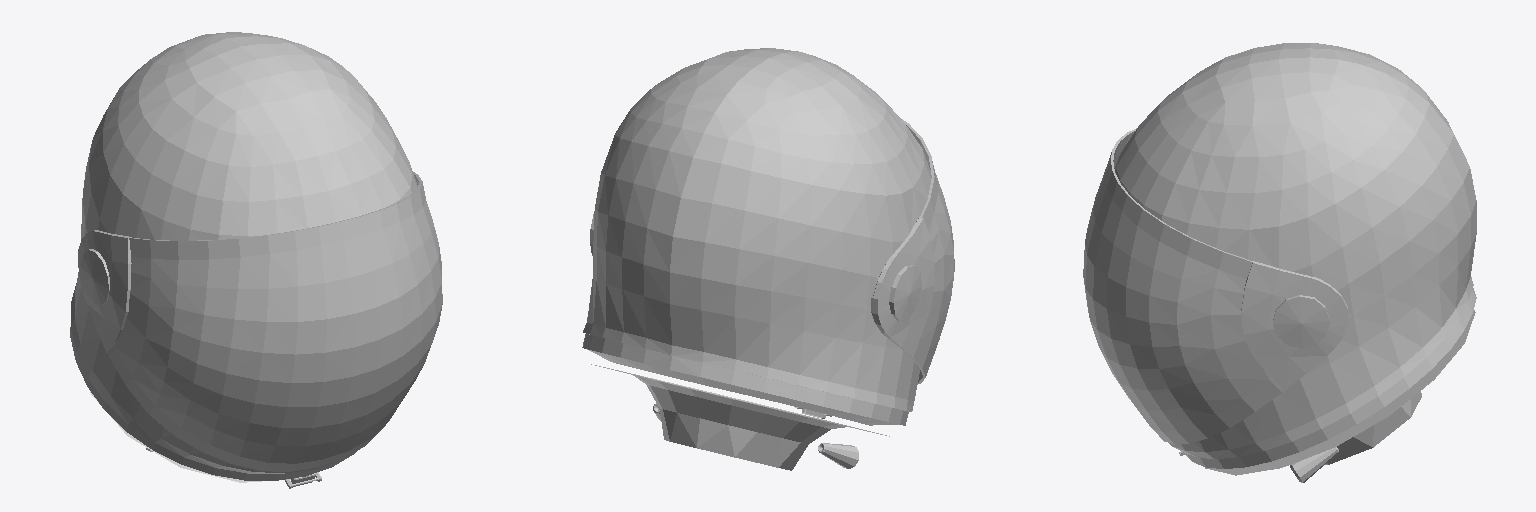
File: Space_suit_head.obj
The picture shows the model from 3 angles: view 1: azimuth 30°, elevation 25°; view 2: azimuth 150°, elevation 25°; view 3: azimuth 270°, elevation 25°; orthographic projection.
Visible parts, largest first — view 1: polySurface2; view 2: polySurface2; view 3: polySurface2.
Part boxes in pixels (x1,y1,x2,y2): polySurface2: (70,32,442,488); polySurface2: (582,48,954,470); polySurface2: (1083,43,1476,482).
Size of the model in its own units: 0.5058 by 0.6287 by 0.5646.